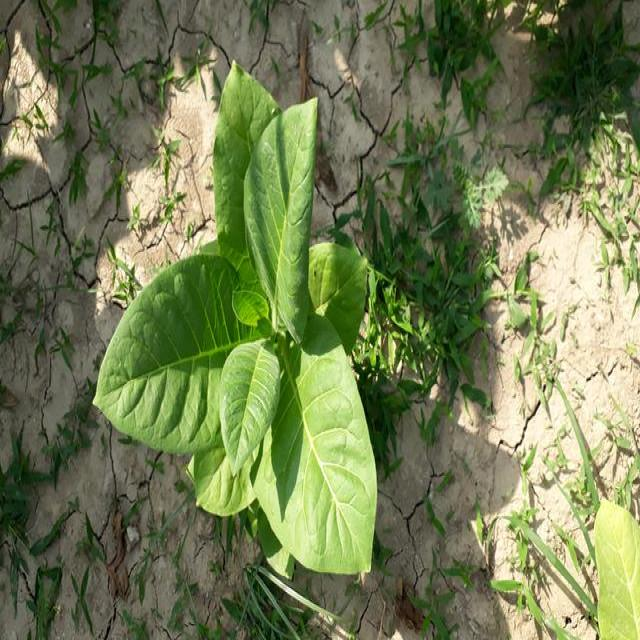crop: (104, 80, 382, 581)
